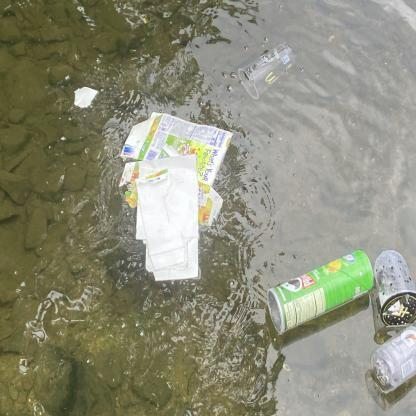Metal: (261, 244, 381, 340)
Plastic: (232, 37, 303, 102), (365, 244, 416, 331), (368, 316, 416, 401)
Trash: (69, 78, 104, 114)
